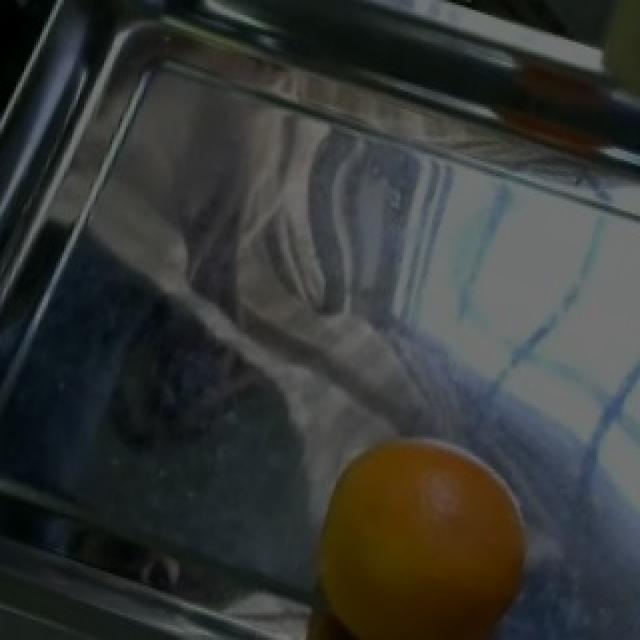Fruit: (286, 410, 554, 638)
